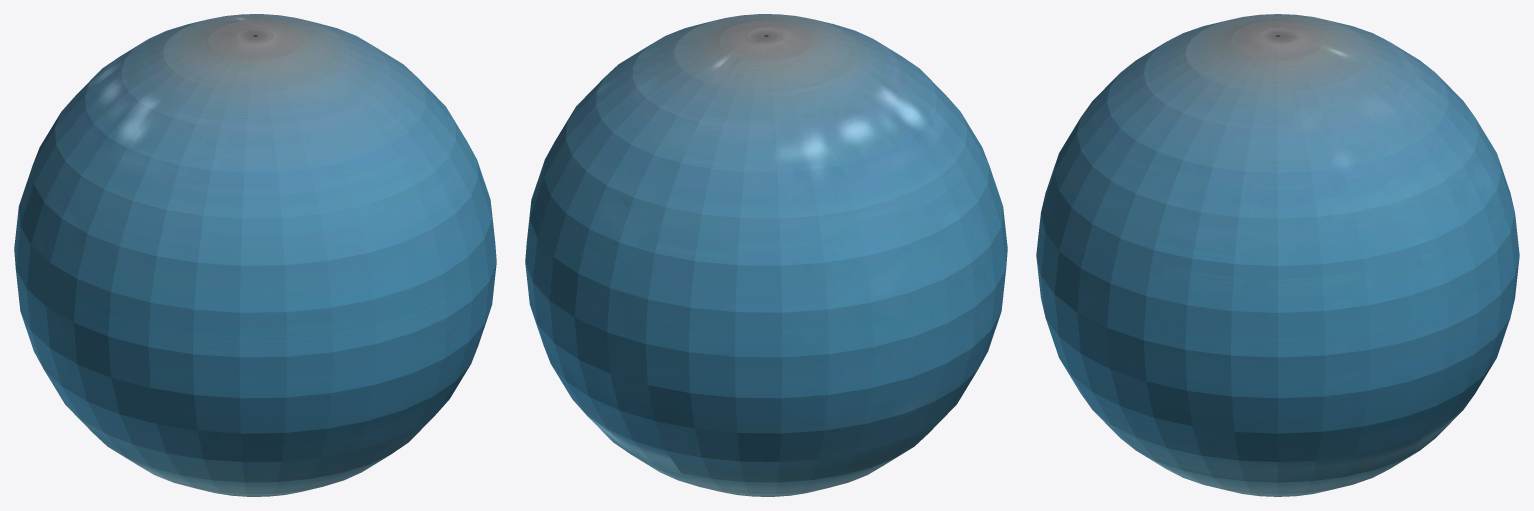
File: HD_164922-movie-88steps0058.obj
3 renders of one model, left to right at view 1: azimuth 30°, elevation 25°; view 2: azimuth 150°, elevation 25°; view 3: azimuth 270°, elevation 25°, orthographic.
Parts seen in each view (by area): view 1: Sphere004; view 2: Sphere004; view 3: Sphere004.
Boxes of the visible parts, x1=… form: Sphere004: x1=14, y1=14, x2=496, y2=496; Sphere004: x1=525, y1=14, x2=1007, y2=496; Sphere004: x1=1036, y1=14, x2=1519, y2=496.
Bounding box in the file's own units: 0.00685 × 0.00686 × 0.00685.
Materials: 1 (1 with a texture image).
